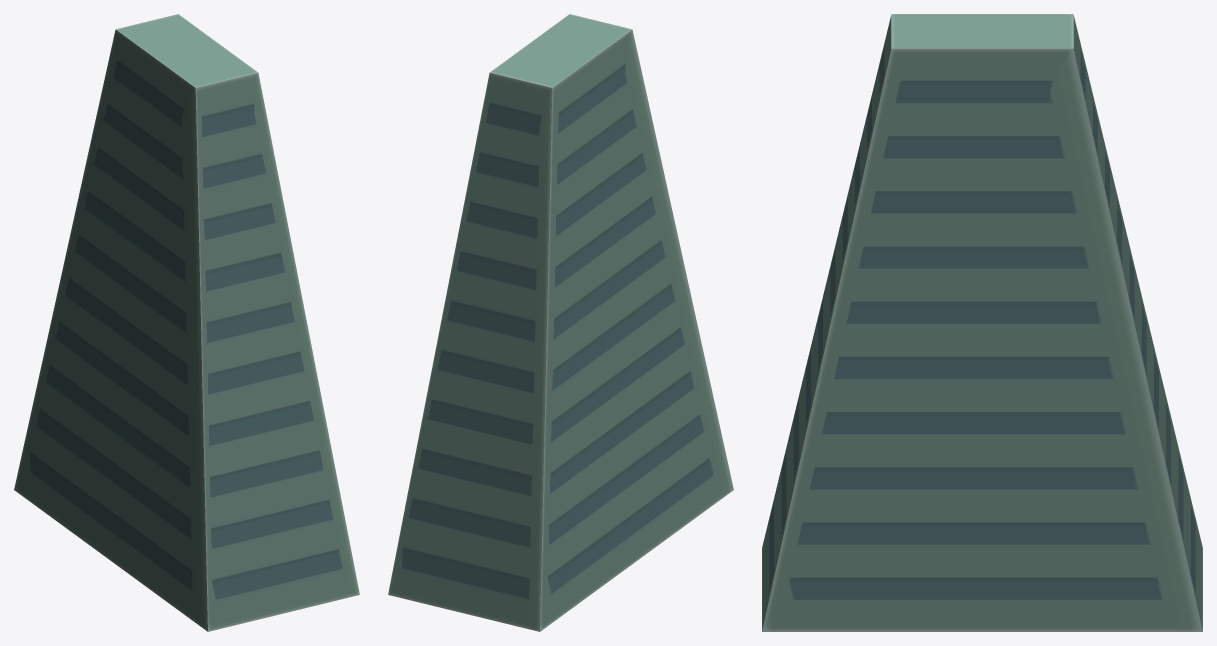
Rendered from Skyscraper_B2.fbx.
3 renders of one model, left to right at view 1: azimuth 30°, elevation 25°; view 2: azimuth 150°, elevation 25°; view 3: azimuth 270°, elevation 25°, orthographic. The views are drawn at different scales.
Parts seen in each view (by area): view 1: Skyscraper_B2; view 2: Skyscraper_B2; view 3: Skyscraper_B2.
Boxes of the visible parts, x1,y1,x2,y2 form: Skyscraper_B2: (14,14,359,631); Skyscraper_B2: (388,14,733,631); Skyscraper_B2: (762,14,1202,631).
Bounding box in the file's own units: 0.3894 × 1.2 × 0.8609.
